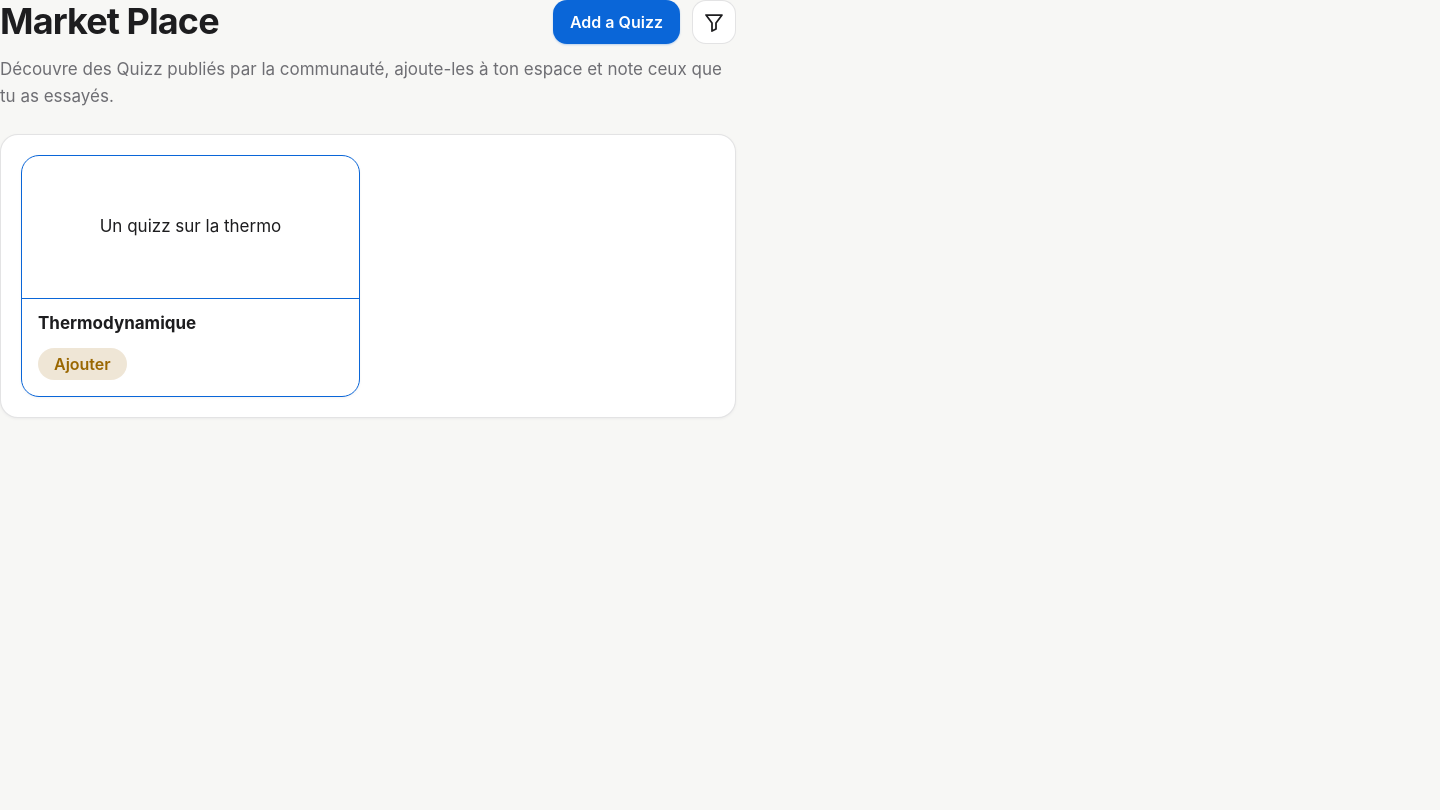
Test case: MarketplacePage › renders a loaded preview with rating, certification and author, disabling rating without a subscription
Click the button "Un quizz sur la thermo Thermodynamique". click: (190, 252)
box: 22,156 -> 359,348
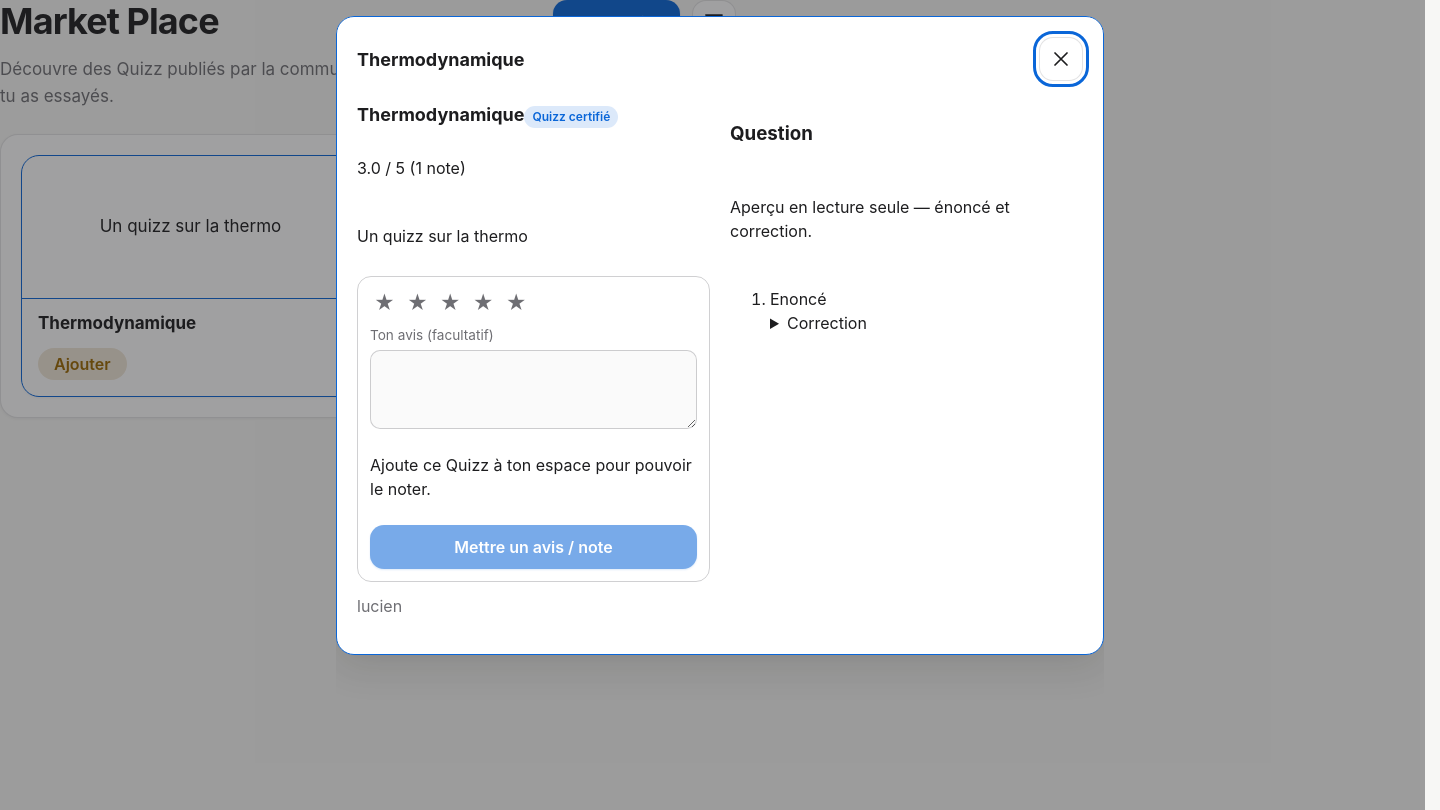
Check: the text "Enoncé" is shown, box 770,288 -> 827,308
Check: the text "3.0 / 5 (1 note)" is shown, box 357,158 -> 466,178
Check: the text "Quizz certifié" is shown, box 524,106 -> 618,128
